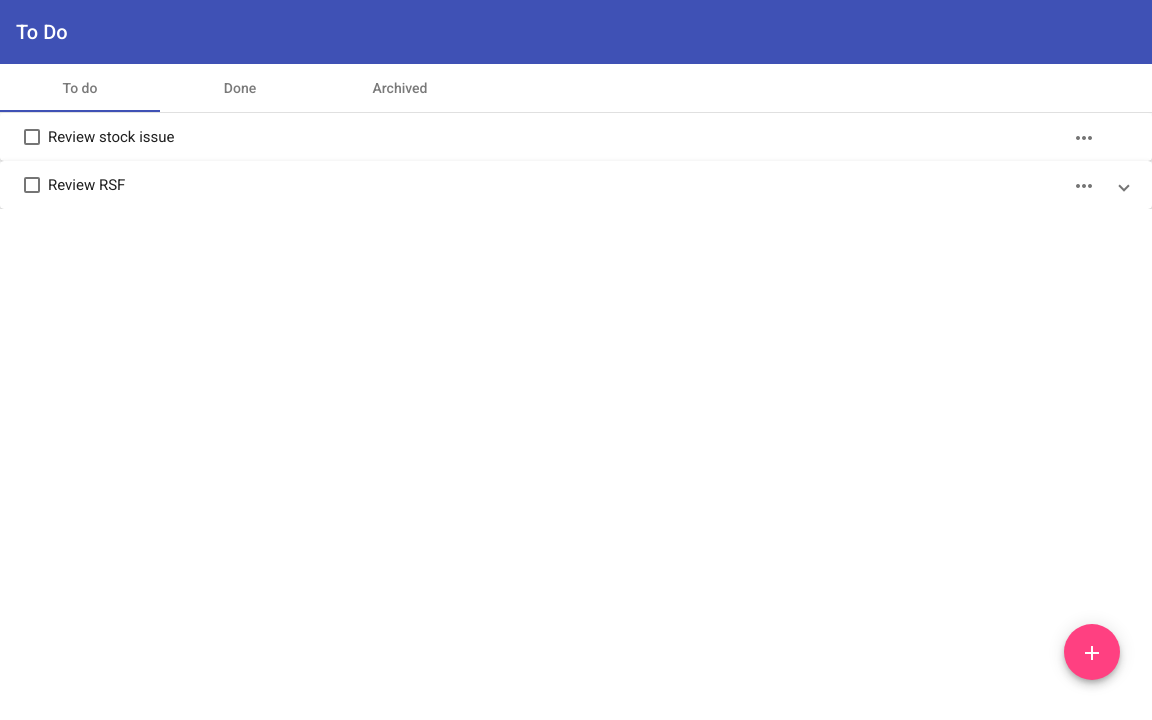
Test: Add todo form › should disable save button
Click the button with test id "add-todo-button": (1092, 652) top-left (1064, 624), bottom-right (1120, 680)
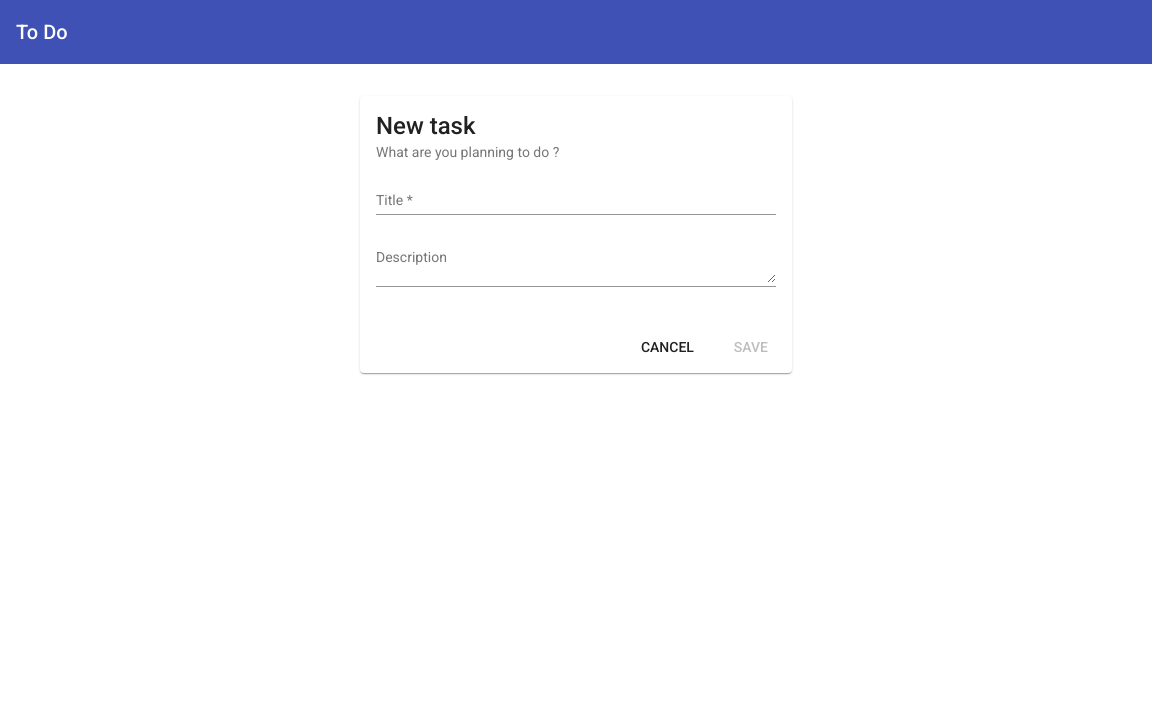
Check: the button with test id "save" is disabled, box top-left (718, 329), bottom-right (784, 365)
In the field with test id "title": (576, 201) top-left (376, 193), bottom-right (776, 209), type "This is a title"
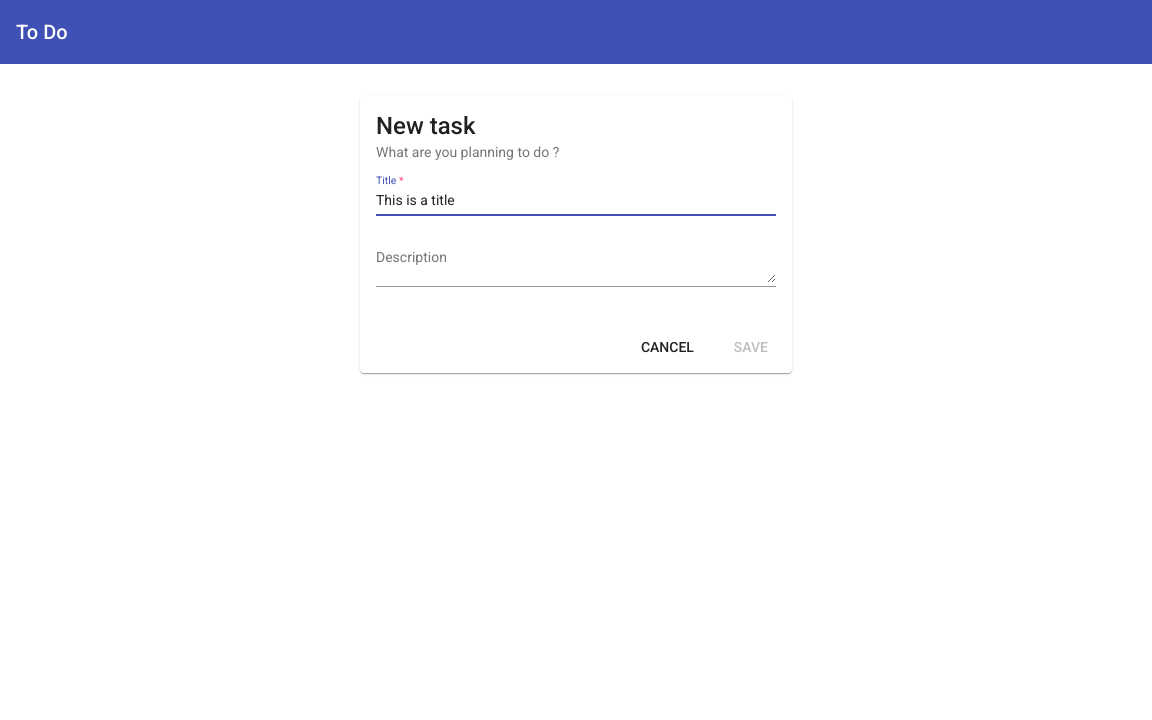
Click the text box with test id "content": (576, 266) top-left (376, 248), bottom-right (776, 284)
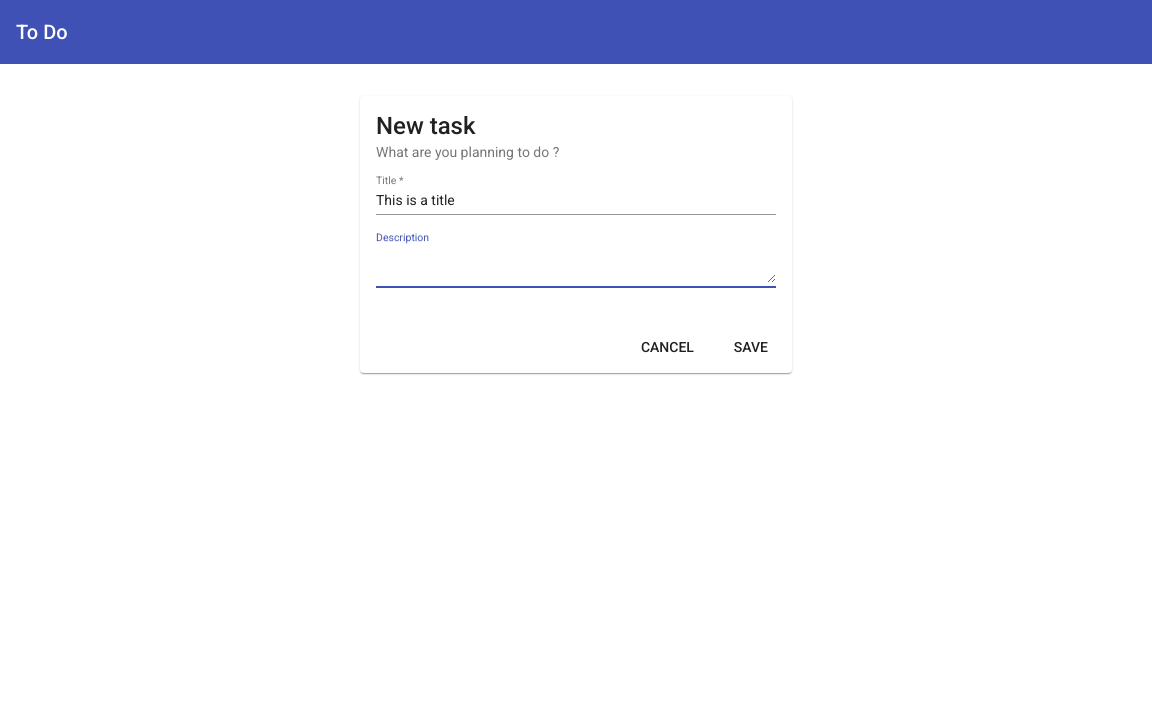
Check: the button with test id "save" is enabled, box top-left (718, 329), bottom-right (784, 365)
